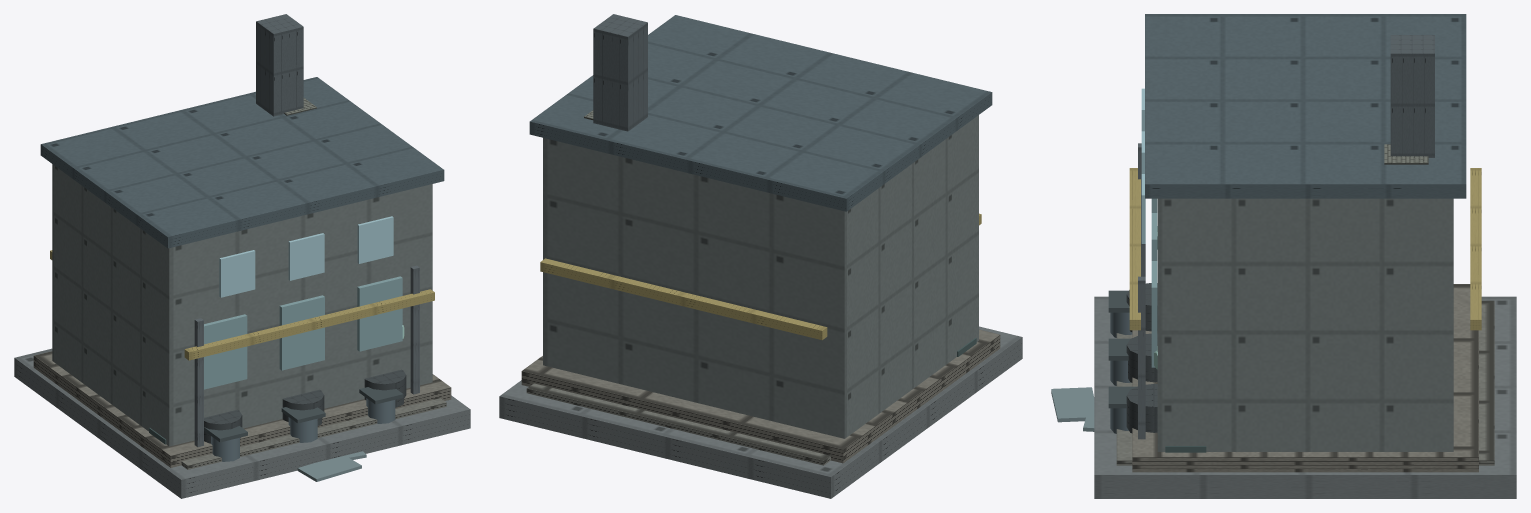
File: procedural_autofactory@6.glb
3 views of the same model, side by side, from view 1: azimuth 30°, elevation 25°; view 2: azimuth 150°, elevation 25°; view 3: azimuth 270°, elevation 25° (orthographic). The views are drawn at different scales.
Parts seen in each view (by area): view 1: part_1, part_3, part_25, part_2, part_0, part_26, part_31, part_4, part_22, part_28, part_29, part_27 (+7 smaller); view 2: part_1, part_3, part_25, part_0, part_26, part_30, part_22; view 3: part_1, part_3, part_25, part_0, part_26, part_22, part_4, part_30, part_31, part_9, part_24, part_2.
Boxes of the visible parts, x1=… form: part_1: x1=52, y1=164, x2=432, y2=446; part_3: x1=40, y1=77, x2=444, y2=248; part_25: x1=14, y1=348, x2=470, y2=498; part_2: x1=204, y1=276, x2=402, y2=389; part_0: x1=33, y1=351, x2=451, y2=467; part_26: x1=256, y1=14, x2=303, y2=116; part_31: x1=184, y1=289, x2=434, y2=360; part_4: x1=204, y1=369, x2=406, y2=443; part_22: x1=181, y1=398, x2=446, y2=469; part_28: x1=288, y1=233, x2=324, y2=280; part_29: x1=357, y1=216, x2=393, y2=263; part_27: x1=219, y1=250, x2=255, y2=297; part_1: x1=543, y1=115, x2=978, y2=438; part_3: x1=529, y1=15, x2=992, y2=211; part_25: x1=499, y1=326, x2=1022, y2=498; part_0: x1=521, y1=329, x2=1000, y2=463; part_26: x1=593, y1=14, x2=647, y2=131; part_30: x1=540, y1=258, x2=827, y2=340; part_22: x1=526, y1=383, x2=830, y2=465; part_1: x1=1157, y1=198, x2=1453, y2=451; part_3: x1=1145, y1=14, x2=1466, y2=198; part_25: x1=1094, y1=296, x2=1516, y2=498; part_0: x1=1132, y1=284, x2=1478, y2=472; part_26: x1=1390, y1=35, x2=1434, y2=157; part_22: x1=1116, y1=300, x2=1494, y2=465; part_4: x1=1126, y1=283, x2=1157, y2=433; part_30: x1=1470, y1=168, x2=1481, y2=330; part_31: x1=1129, y1=168, x2=1140, y2=330; part_9: x1=1051, y1=387, x2=1094, y2=422; part_24: x1=1138, y1=276, x2=1145, y2=439; part_2: x1=1151, y1=198, x2=1157, y2=367.
Bounding box in the file's own units: 6.7 × 7.26 × 7.39.
Materials: 19 (10 with a texture image).
